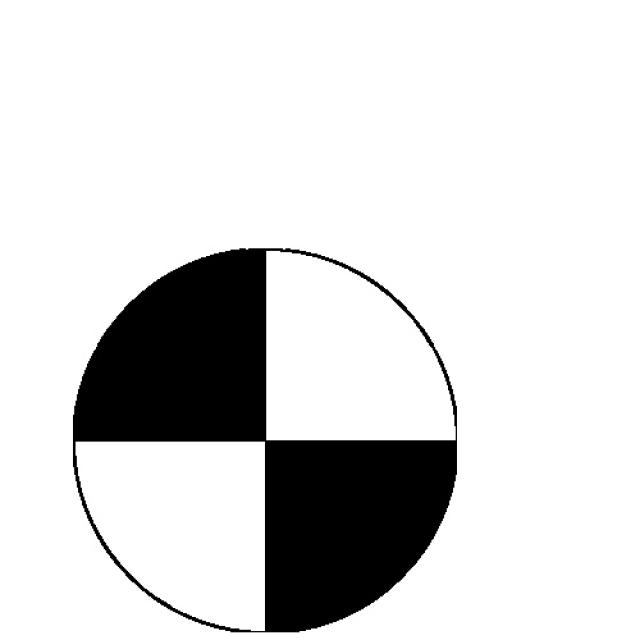Marcadores: (73, 251, 457, 631)
